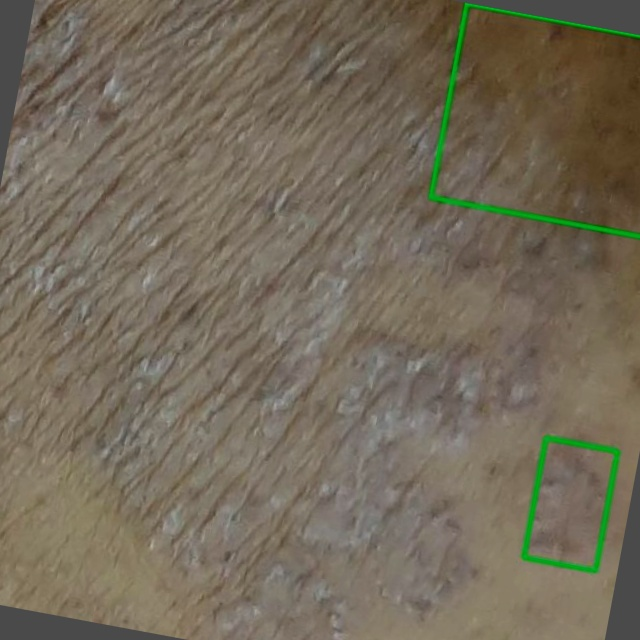Tinea Corporis: (430, 3, 639, 236), (524, 438, 617, 571)
